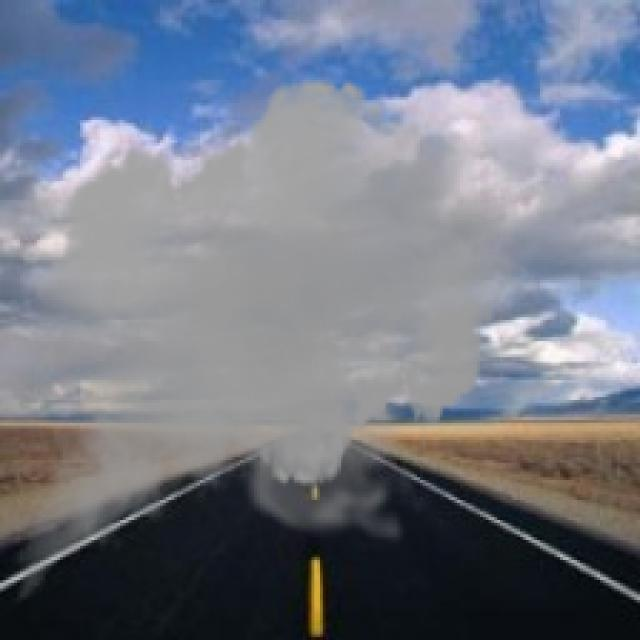Smoke: (3, 63, 543, 632)
